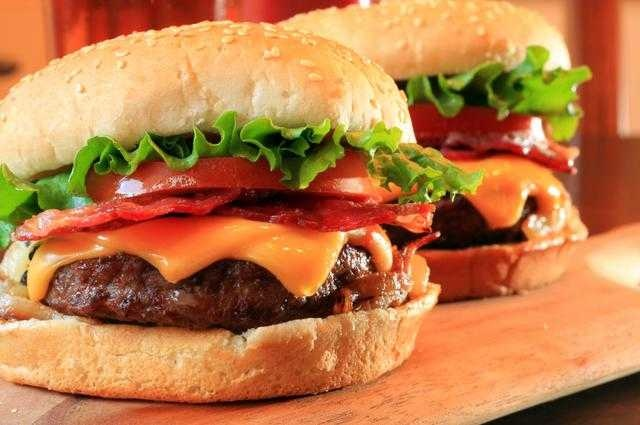hamburger: (1, 20, 432, 390), (262, 6, 609, 295)
